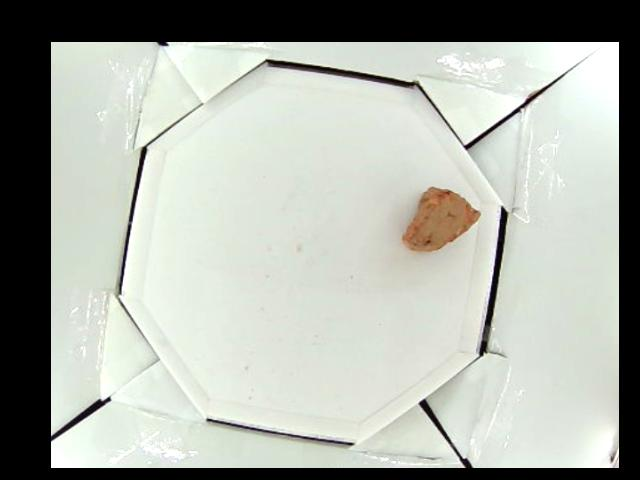Brisk: (401, 188, 480, 253)
